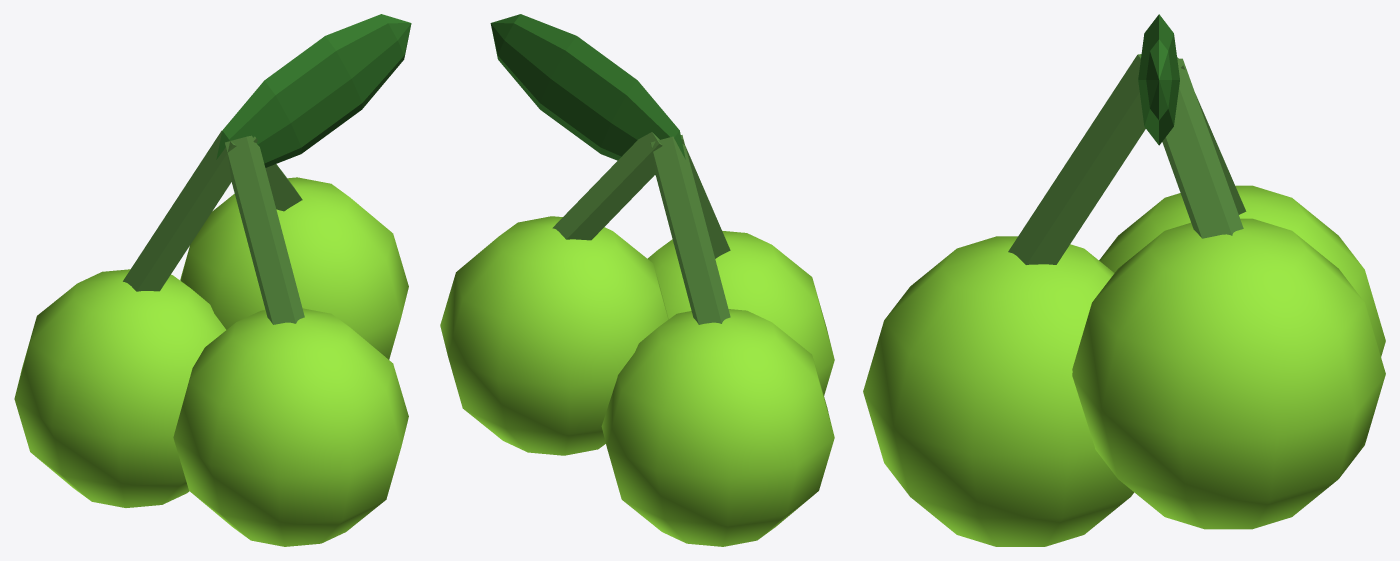
The model's file is Fruto_PoisonIvy.fbx.
3 renders of one model, left to right at view 1: azimuth 30°, elevation 25°; view 2: azimuth 150°, elevation 25°; view 3: azimuth 270°, elevation 25°, orthographic. The views are drawn at different scales.
Visible parts, largest first — view 1: Produto_PoisonIvy, Cabo_PoisonIvy; view 2: Produto_PoisonIvy, Cabo_PoisonIvy; view 3: Produto_PoisonIvy, Cabo_PoisonIvy.
Part boxes in pixels (<box>): Produto_PoisonIvy: <box>14,177,408,546</box>; Cabo_PoisonIvy: <box>123,14,411,324</box>; Produto_PoisonIvy: <box>440,216,834,546</box>; Cabo_PoisonIvy: <box>490,14,730,324</box>; Produto_PoisonIvy: <box>863,185,1385,546</box>; Cabo_PoisonIvy: <box>1008,14,1246,264</box>.
Bounding box in the file's own units: 0.4283 × 0.5137 × 0.415.
1 material, 1 textured.
